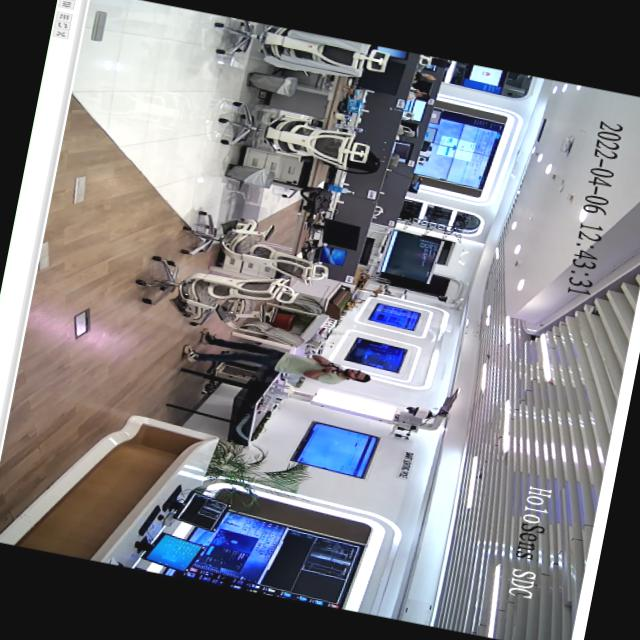long weapon: (312, 357, 345, 380)
